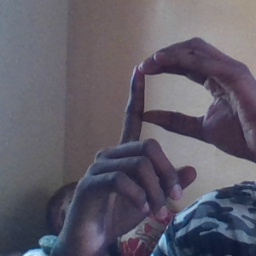P: (87, 33, 242, 221)
